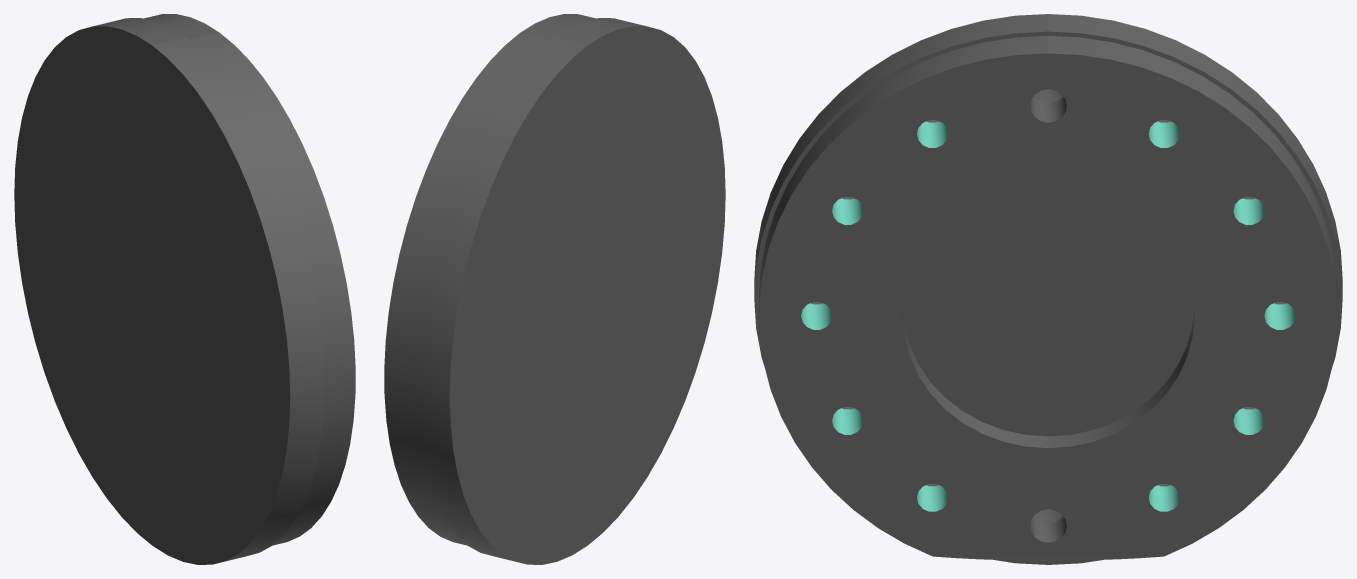
3 renders of one model, left to right at view 1: azimuth 30°, elevation 25°; view 2: azimuth 150°, elevation 25°; view 3: azimuth 270°, elevation 25°, orthographic. The views are drawn at different scales.
Visible parts, largest first — view 1: Mesh_0.006; view 2: Mesh_0.006; view 3: Mesh_0.006.
Part boxes in pixels (x1=…): Mesh_0.006: x1=14, y1=14, x2=355, y2=564; Mesh_0.006: x1=384, y1=14, x2=725, y2=564; Mesh_0.006: x1=754, y1=14, x2=1342, y2=564.
Size of the model in its own units: 0.018 by 0.127 by 0.127.
